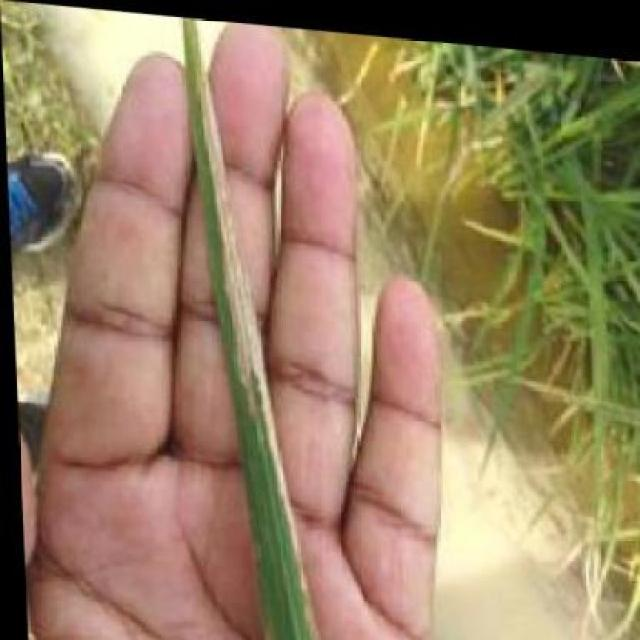Brown_Spot: (219, 72, 296, 574)
